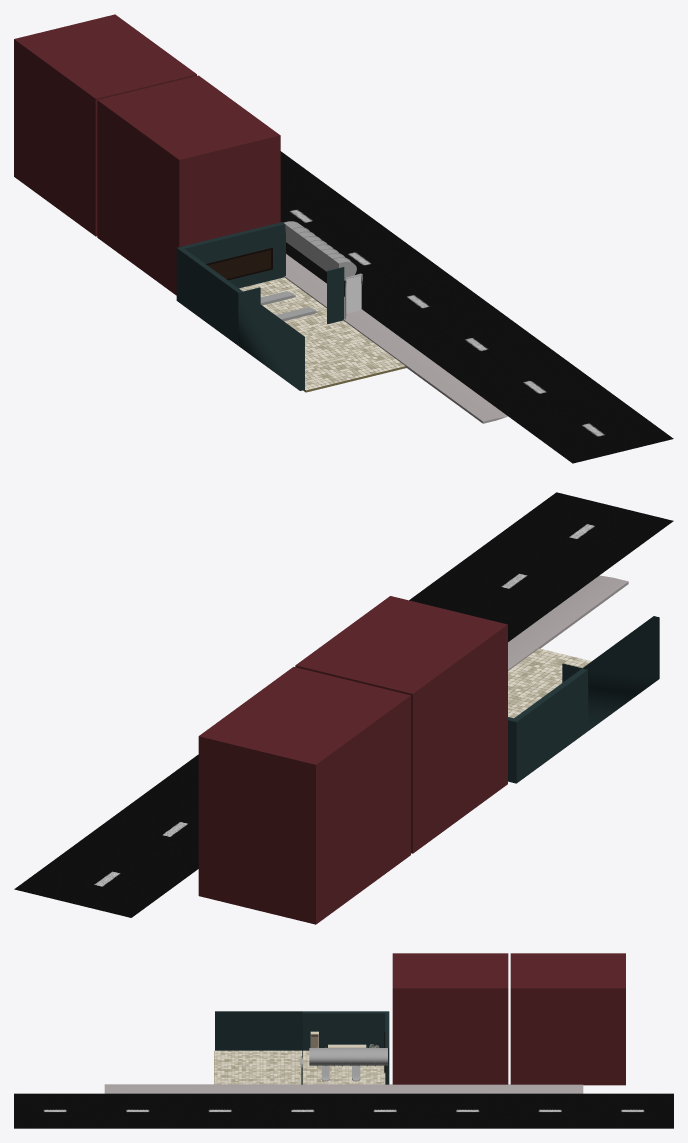
File: map.fbx
The picture shows the model from 3 angles, top to bottom: view 1: azimuth 30°, elevation 25°; view 2: azimuth 150°, elevation 25°; view 3: azimuth 270°, elevation 25°; orthographic projection. The views are drawn at different scales.
Parts seen in each view (by area): view 1: Highway, Building, Building1, polySurface5, pCube4, Floor1, Floor, pPlane2, Board, polySurface7; view 2: Building1, Highway, Building, polySurface5, pCube4, Floor1; view 3: Highway, Building, Building1, polySurface5, pCube4, Floor1, Floor, pPlane2, pista_de_carro.
Part boxes in pixels (x1,y1,x2,y2): Highway: (280, 151, 673, 463); Building: (97, 75, 280, 295); Building1: (14, 14, 196, 236); polySurface5: (176, 222, 304, 390); pCube4: (284, 254, 507, 423); Floor1: (300, 322, 406, 392); Floor: (239, 277, 344, 332); pPlane2: (284, 221, 356, 280); Board: (206, 248, 272, 280); polySurface7: (327, 267, 344, 323); Building1: (198, 667, 410, 924); Highway: (14, 492, 673, 917); Building: (295, 596, 507, 853); polySurface5: (508, 616, 659, 783); pCube4: (508, 575, 628, 670); Floor1: (508, 648, 591, 712); Highway: (14, 1093, 673, 1128); Building: (392, 953, 508, 1084); Building1: (510, 953, 625, 1085); polySurface5: (215, 1011, 389, 1084); pCube4: (104, 1084, 583, 1093); Floor1: (214, 1050, 299, 1084); Floor: (299, 1050, 385, 1084); pPlane2: (309, 1047, 387, 1066); pista_de_carro: (321, 1065, 360, 1081).
Size of the model in its own units: 22.86 by 13.2 by 80.
